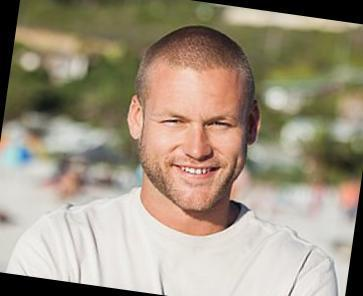Sober: (138, 60, 251, 214)
